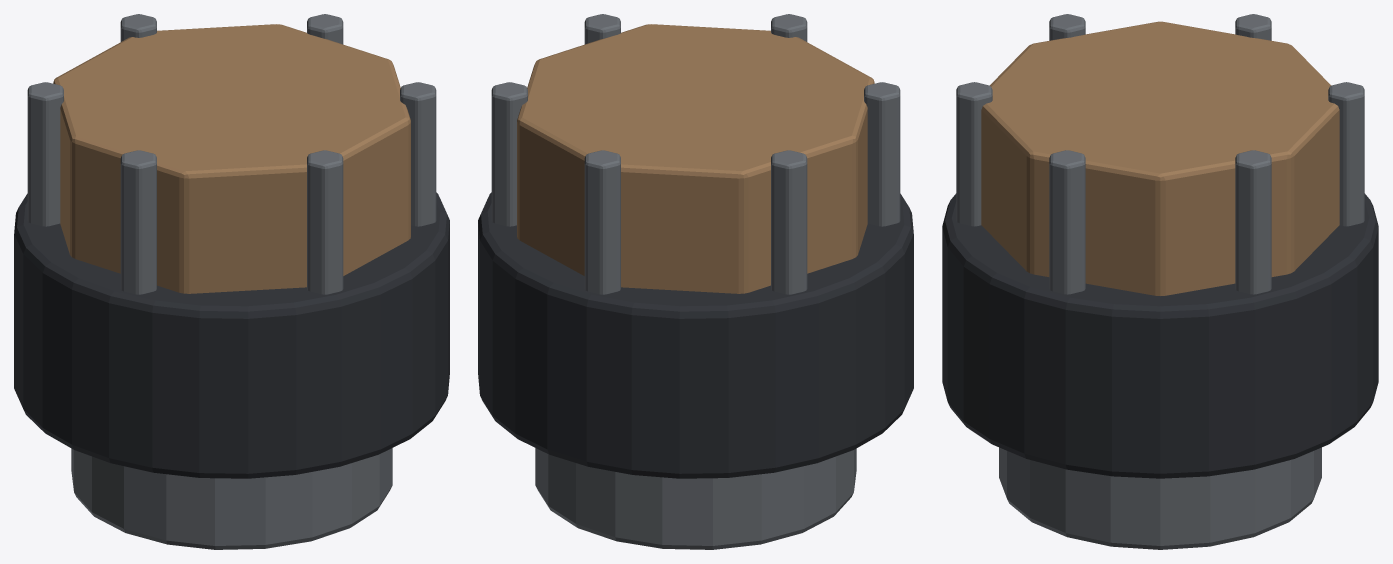
Rendered from module_core_standard.fbx.
3 views of the same model, side by side, from view 1: azimuth 30°, elevation 25°; view 2: azimuth 150°, elevation 25°; view 3: azimuth 270°, elevation 25° (orthographic).
Parts seen in each view (by area): view 1: SM_Module_CoreStandard; view 2: SM_Module_CoreStandard; view 3: SM_Module_CoreStandard.
Part boxes in pixels (x1,y1,x2,y2): SM_Module_CoreStandard: [14, 14, 449, 549]; SM_Module_CoreStandard: [478, 14, 913, 549]; SM_Module_CoreStandard: [942, 14, 1378, 549].
Size of what is drawn, in the model's own units: 23 by 23 by 23.
